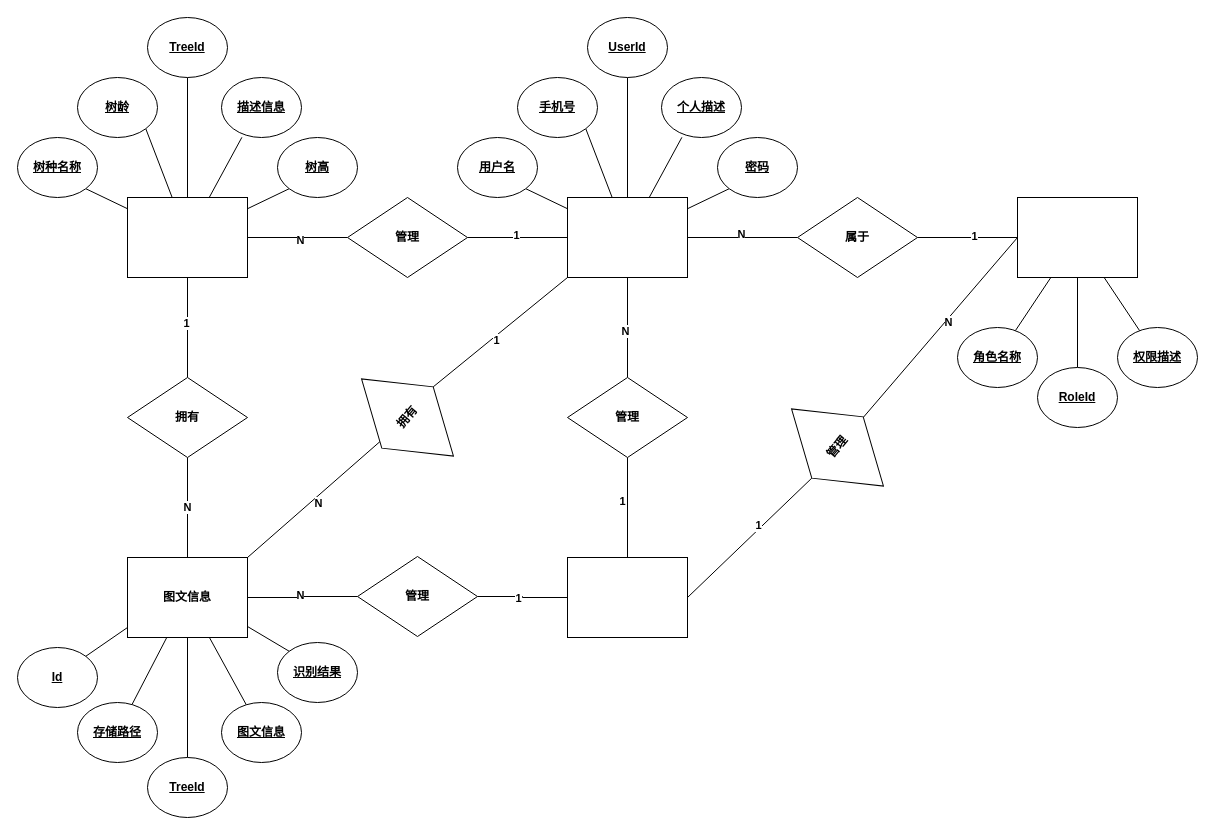
Image size: 1215x835. Some labels were removed from this diagram. Here are the shapes that lost their labels. From the top down, the box of each, then its label:
(126, 196, 248, 278): 古木信息
(566, 196, 688, 278): 用户
(1016, 196, 1138, 278): 权限管理信息
(566, 556, 688, 638): 管理员
